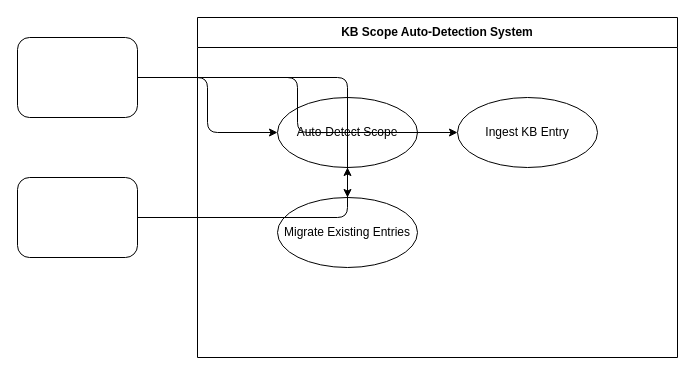
Image size: 695x375. Some labels were removed from this diagram. Each missing label, with the centre of its shape:
Developer: pixel 77 77
Git Repository: pixel 77 217
